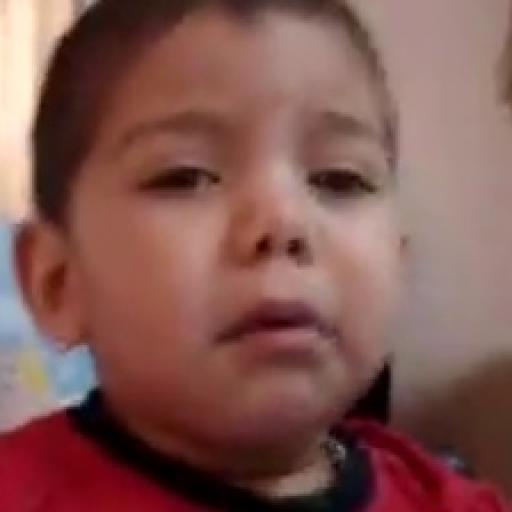Autism: (49, 17, 412, 489)
